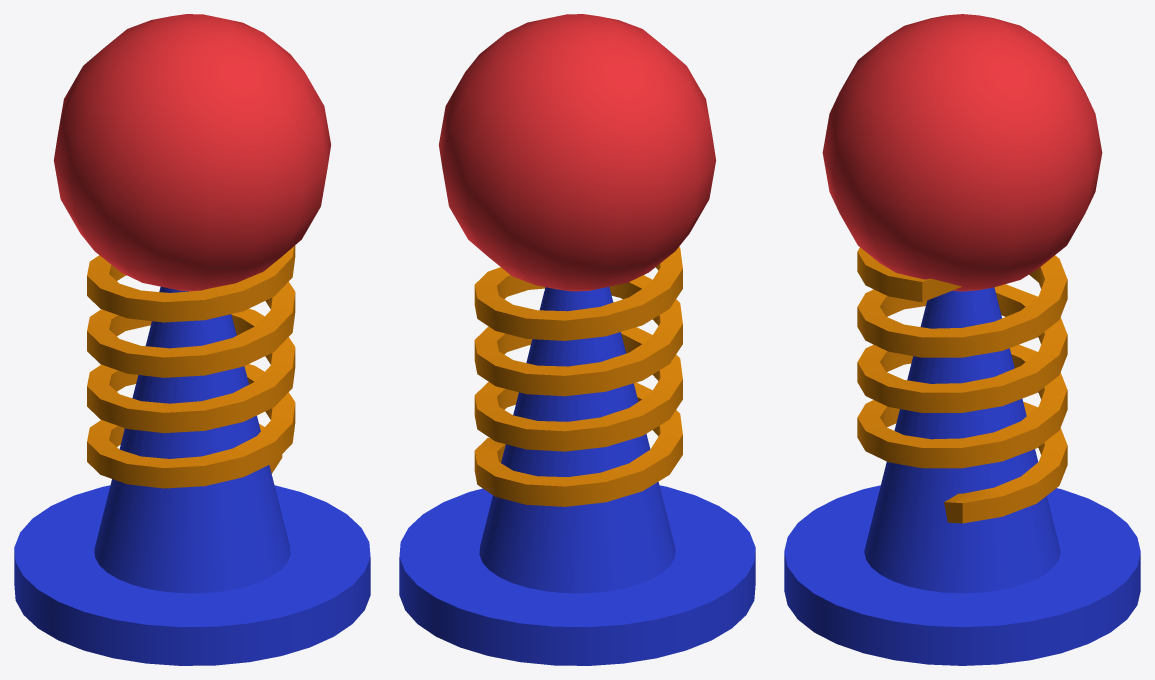
File: engel19.fbx
3 views of the same model, side by side, from view 1: azimuth 30°, elevation 25°; view 2: azimuth 150°, elevation 25°; view 3: azimuth 270°, elevation 25° (orthographic).
Parts seen in each view (by area): view 1: Cylinder.022, Sphere.001; view 2: Cylinder.022, Sphere.001; view 3: Cylinder.022, Sphere.001.
Part boxes in pixels (x1,y1,x2,y2): Cylinder.022: (14,245,370,665); Sphere.001: (53,14,330,291); Cylinder.022: (399,247,755,665); Sphere.001: (439,14,716,291); Cylinder.022: (784,247,1140,665); Sphere.001: (822,14,1102,291).
Bounding box in the file's own units: 331 × 579 × 331.
